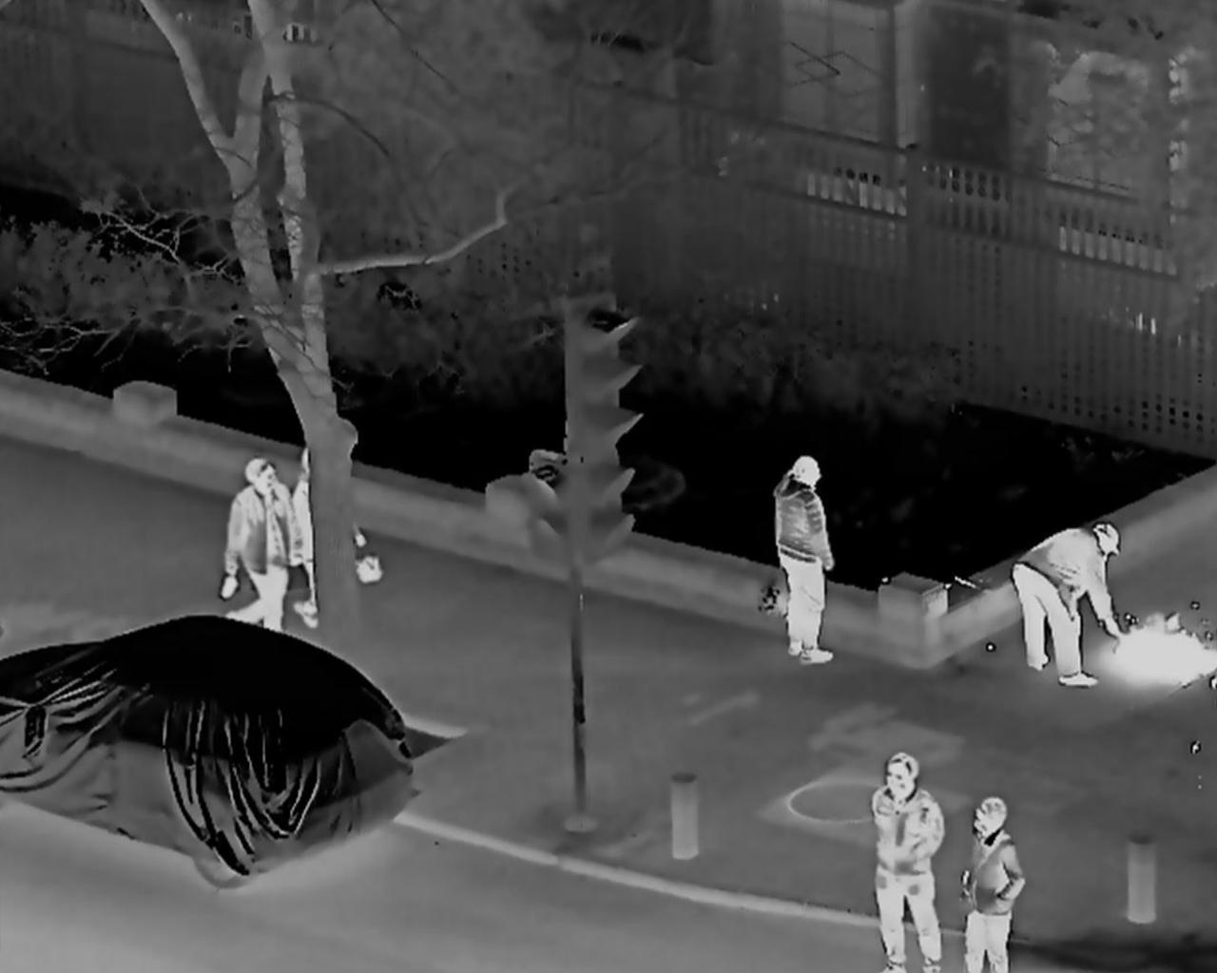person: (862, 751, 950, 973), (1011, 519, 1122, 689), (765, 457, 842, 669), (288, 447, 372, 623), (223, 459, 300, 639), (956, 792, 1025, 973)
